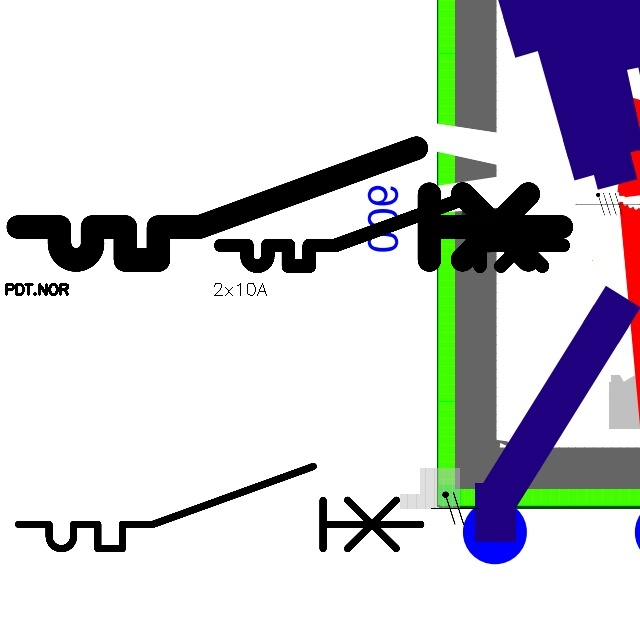interruptor_termomagnetico: (4, 134, 575, 274), (8, 456, 431, 559), (212, 187, 572, 275)
